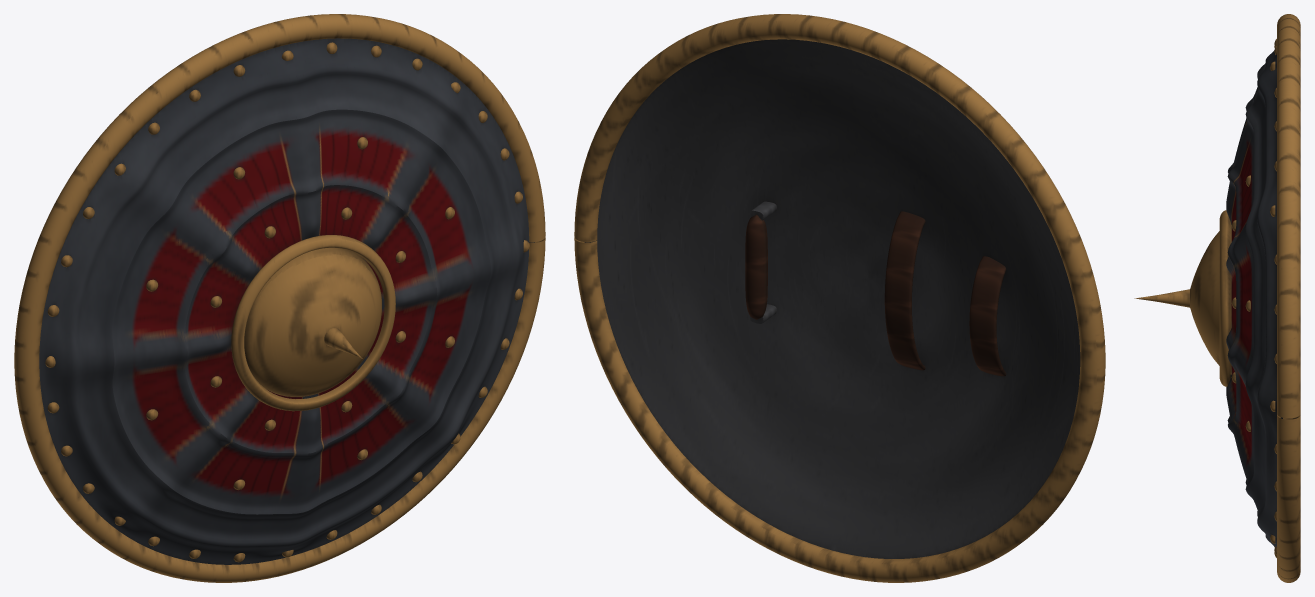
The model's file is shield_hd.glb.
3 renders of one model, left to right at view 1: azimuth 30°, elevation 25°; view 2: azimuth 150°, elevation 25°; view 3: azimuth 270°, elevation 25°, orthographic. The views are drawn at different scales.
Visible parts, largest first — view 1: Weapon; view 2: Weapon; view 3: Weapon.
Boxes of the visible parts, left/top/right/bottom form: Weapon: left=14, top=14, right=545, bottom=582; Weapon: left=574, top=14, right=1105, bottom=582; Weapon: left=1134, top=14, right=1300, bottom=582.
Bounding box in the file's own units: 0.8375 × 0.8376 × 0.245.
1 material, 1 textured.
